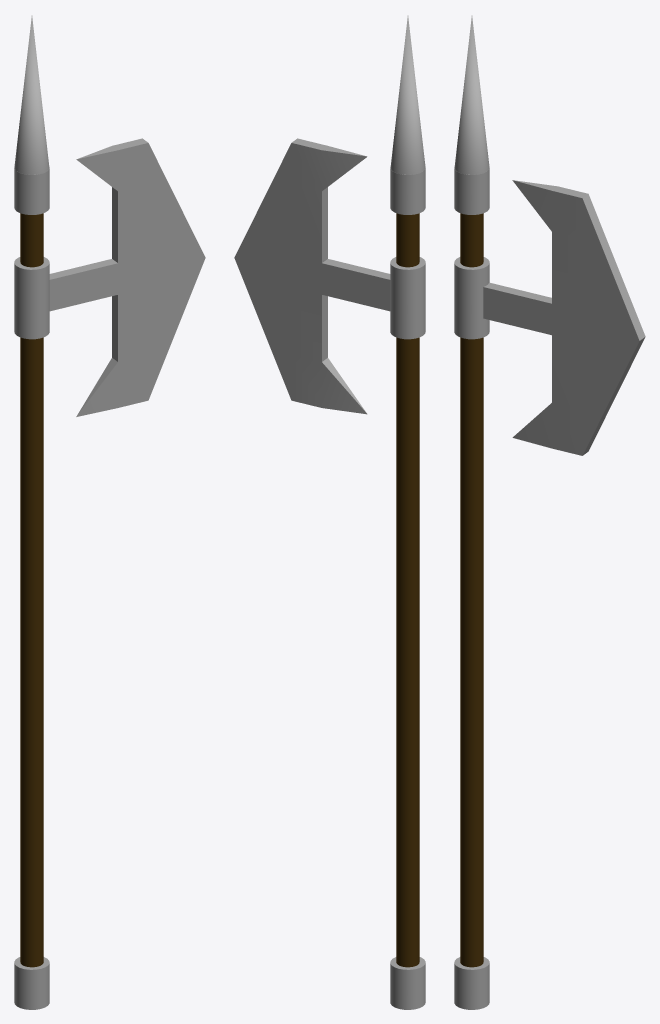
The model's file is Halberd.fbx.
3 views of the same model, side by side, from view 1: azimuth 30°, elevation 25°; view 2: azimuth 150°, elevation 25°; view 3: azimuth 330°, elevation 25° (orthographic).
Visible parts, largest first — view 1: pCube1, pCylinder1, pCone1, pCylinder2, pCylinder4, pCylinder3; view 2: pCube1, pCylinder1, pCone1, pCylinder2, pCylinder4, pCylinder3; view 3: pCube1, pCylinder1, pCone1, pCylinder2, pCylinder4, pCylinder3.
Part boxes in pixels (x1,y1,x2,y2): pCube1: [49, 138, 205, 416]; pCylinder1: [20, 213, 43, 967]; pCone1: [14, 15, 49, 174]; pCylinder2: [14, 257, 49, 339]; pCylinder4: [14, 957, 49, 1009]; pCylinder3: [14, 166, 49, 214]; pCube1: [234, 138, 390, 414]; pCylinder1: [396, 213, 419, 967]; pCone1: [390, 15, 425, 174]; pCylinder2: [390, 257, 425, 339]; pCylinder4: [390, 957, 425, 1009]; pCylinder3: [390, 166, 425, 214]; pCube1: [483, 180, 645, 455]; pCylinder1: [460, 213, 483, 967]; pCone1: [454, 15, 489, 174]; pCylinder2: [454, 257, 489, 339]; pCylinder4: [454, 957, 489, 1009]; pCylinder3: [454, 166, 489, 214].
Bounding box in the file's own units: 22.12 × 112 × 3.66.
